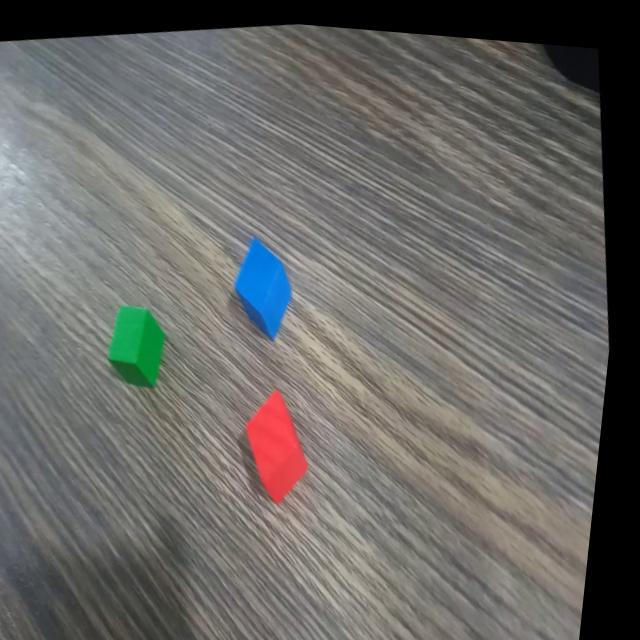cube: (241, 374, 333, 506), (226, 222, 312, 343), (104, 292, 184, 392)
